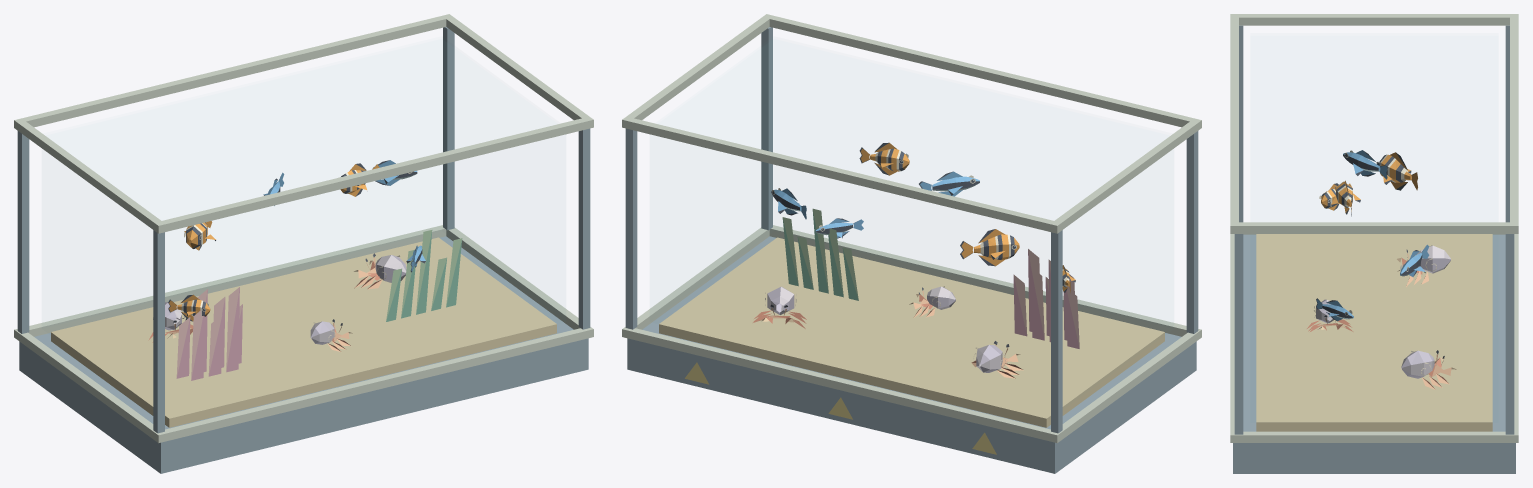
Rendered from lobby_reef.glb.
3 views of the same model, side by side, from view 1: azimuth 30°, elevation 25°; view 2: azimuth 150°, elevation 25°; view 3: azimuth 270°, elevation 25° (orthographic).
Parts seen in each view (by area): view 1: Hylian_Reef_Aquarium, HermitCrab_02, HermitCrab_01, Clownfish_01; view 2: Hylian_Reef_Aquarium, Clownfish_00, HermitCrab_00, HermitCrab_02, Clownfish_02, CleanerWrasse_04, HermitCrab_01, CleanerWrasse_03; view 3: Hylian_Reef_Aquarium, HermitCrab_02, Clownfish_00, HermitCrab_00, CleanerWrasse_04, HermitCrab_01, Clownfish_02, CleanerWrasse_03, CleanerWrasse_05, Clownfish_01.
Part boxes in pixels (x1,y1,x2,y2): Hylian_Reef_Aquarium: (14,14,593,473); HermitCrab_02: (354,253,406,289); HermitCrab_01: (310,319,352,351); Clownfish_01: (168,294,210,321); Hylian_Reef_Aquarium: (622,14,1201,473); Clownfish_00: (960,229,1019,266); HermitCrab_00: (971,341,1023,378); HermitCrab_02: (753,286,806,328); Clownfish_02: (859,142,909,175); CleanerWrasse_04: (919,171,979,196); HermitCrab_01: (909,286,955,317); CleanerWrasse_03: (771,188,806,219); Hylian_Reef_Aquarium: (1230,14,1518,473); HermitCrab_02: (1401,350,1456,389); Clownfish_00: (1376,152,1417,190); HermitCrab_00: (1397,245,1450,286); CleanerWrasse_04: (1343,150,1387,179); HermitCrab_01: (1307,299,1353,331); Clownfish_02: (1331,180,1360,216); CleanerWrasse_03: (1400,244,1429,276); CleanerWrasse_05: (1316,298,1353,321); Clownfish_01: (1319,183,1351,210).
Size of the model in its own units: 1.74 by 0.955 by 1.
